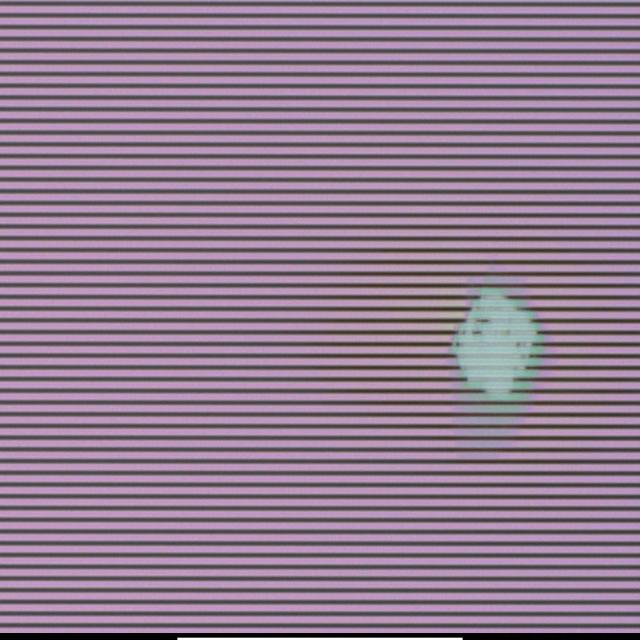03_intrusion: (453, 273, 547, 407)
